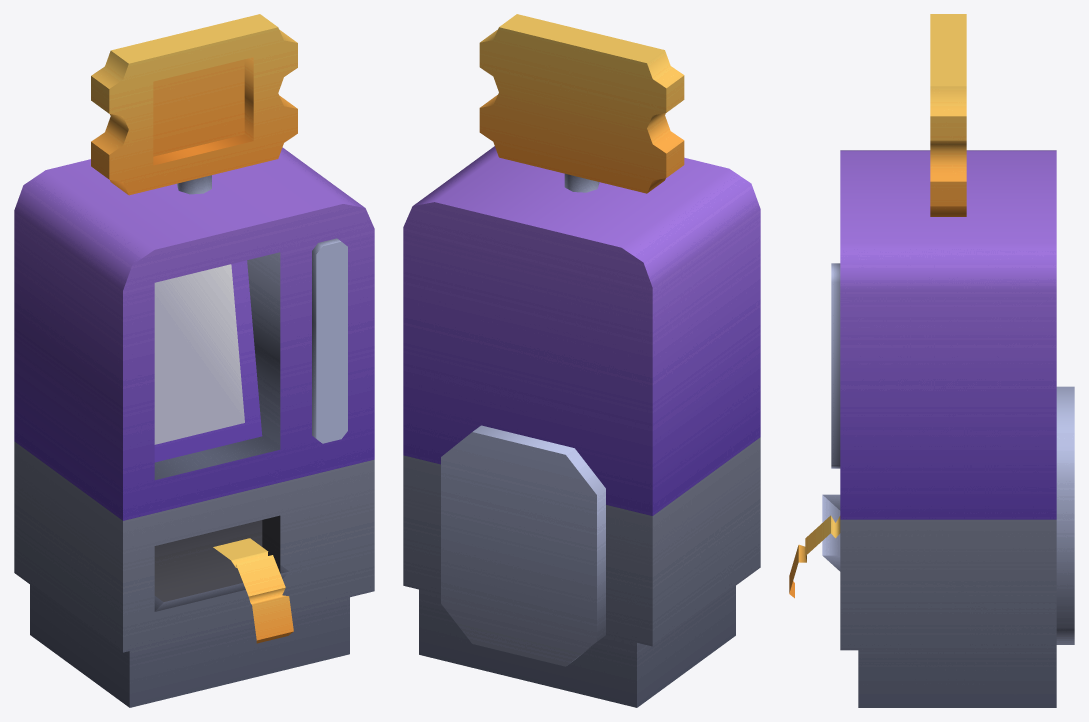
File: ticket-machine.glb
3 renders of one model, left to right at view 1: azimuth 30°, elevation 25°; view 2: azimuth 150°, elevation 25°; view 3: azimuth 270°, elevation 25°, orthographic.
Parts seen in each view (by area): view 1: ticket-machine, rotate-y; view 2: ticket-machine, rotate-y; view 3: ticket-machine, rotate-y.
Part boxes in pixels (bbox=[...]): ticket-machine: bbox=[14, 147, 374, 707]; rotate-y: bbox=[91, 14, 297, 195]; ticket-machine: bbox=[403, 146, 760, 707]; rotate-y: bbox=[479, 14, 684, 193]; ticket-machine: bbox=[789, 150, 1074, 707]; rotate-y: bbox=[930, 14, 966, 216].
Bounding box in the file's own units: 0.4 × 0.925 × 0.3958.
1 material, 1 textured.
